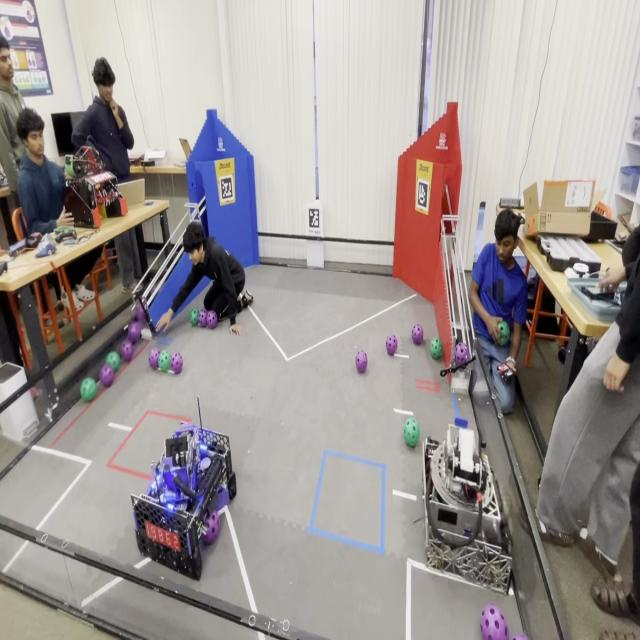artifact_green: (404, 418, 419, 447), (81, 378, 97, 402), (105, 352, 120, 372), (498, 320, 509, 345), (159, 350, 171, 372), (430, 338, 442, 359), (65, 155, 75, 177), (190, 309, 198, 326)
artifact_purple: (481, 604, 508, 639), (203, 511, 219, 544), (454, 343, 470, 365), (100, 365, 114, 387), (128, 321, 141, 343), (120, 341, 134, 361), (171, 352, 183, 374), (356, 351, 367, 373), (134, 303, 145, 324), (386, 335, 397, 355), (412, 324, 423, 344), (149, 348, 159, 369), (207, 311, 218, 328), (198, 309, 207, 327), (512, 635, 527, 639)
